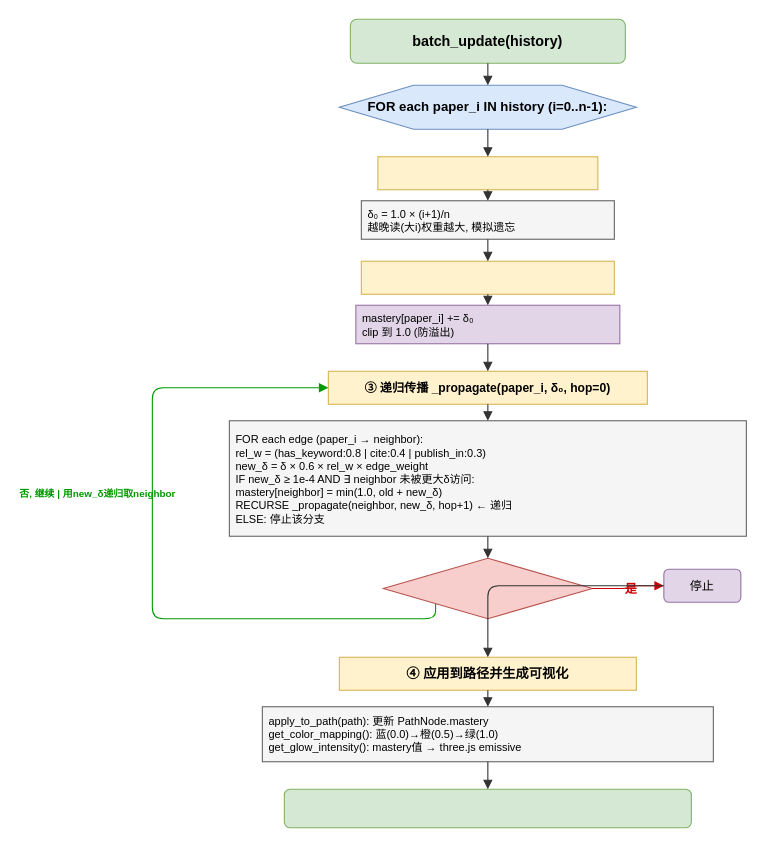
Image size: 766x847. Some labels were removed from this diagram. Each missing label, with the centre of its shape:
"hop ≥ 3 OR δ < 1e-4?" goes at [487,588].
"PathNode 数组: 含 mastery + color + glow" goes at [487,808].
"① 时间衰减权重" goes at [487,173].
"② 直接更新事件节点" goes at [487,277].
